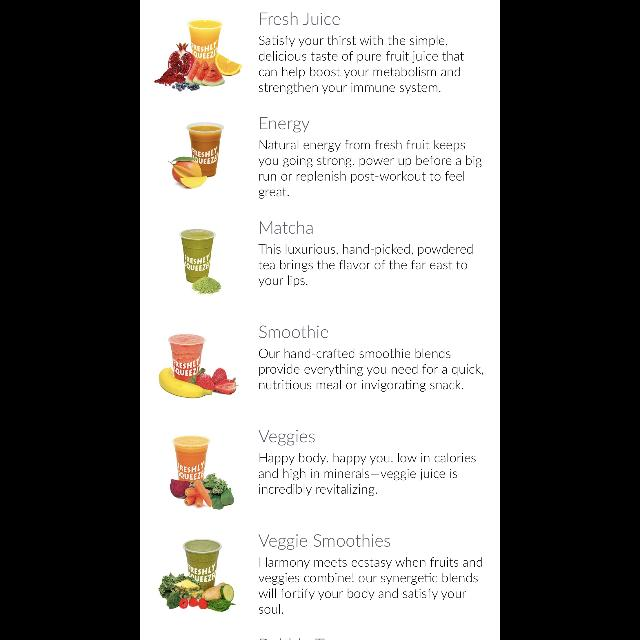image: (154, 18, 242, 92), (158, 538, 236, 612), (160, 334, 240, 398), (170, 434, 234, 510), (168, 122, 225, 190), (179, 228, 221, 296)
text: (258, 140, 482, 198), (258, 558, 482, 614), (260, 36, 464, 94), (259, 348, 483, 392), (258, 452, 476, 496), (259, 245, 473, 288), (258, 534, 389, 550), (260, 12, 340, 26), (259, 430, 315, 446), (260, 326, 328, 338), (260, 117, 310, 133), (260, 222, 314, 234)
